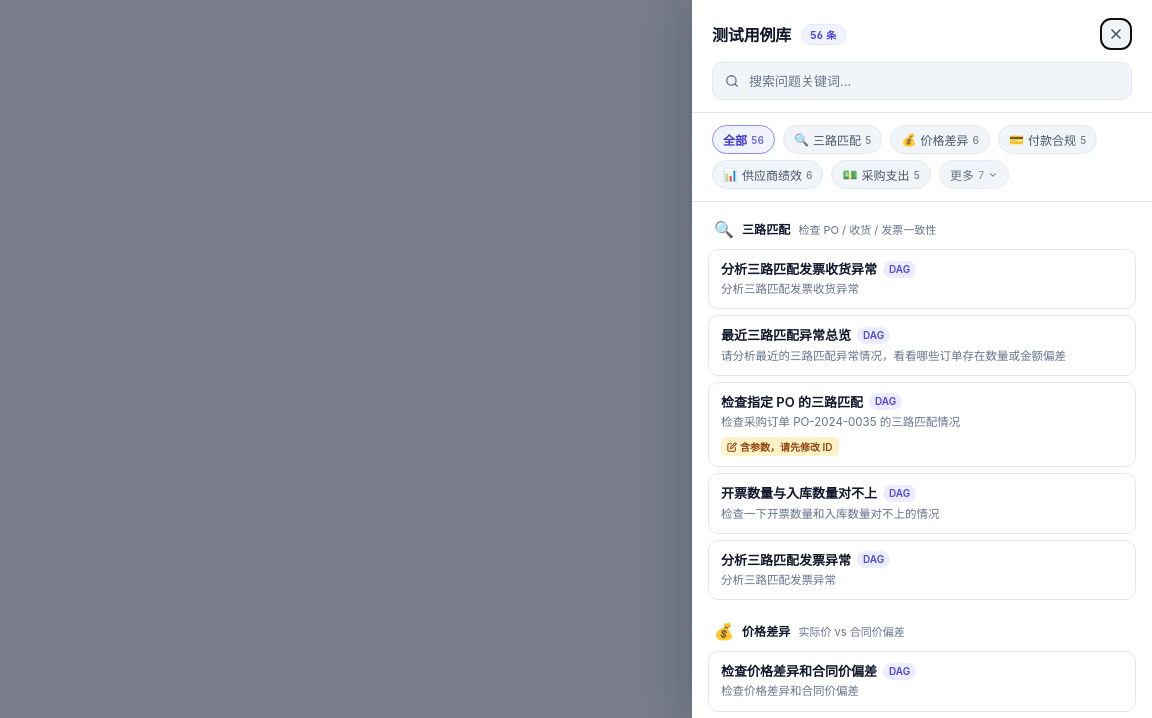
Test case: ExamplePromptsDrawer › filters prompts by category
Click the chip (first match), not the group header
Click the button "🔍 三路匹配 5": (833, 140) [783,125,882,154]
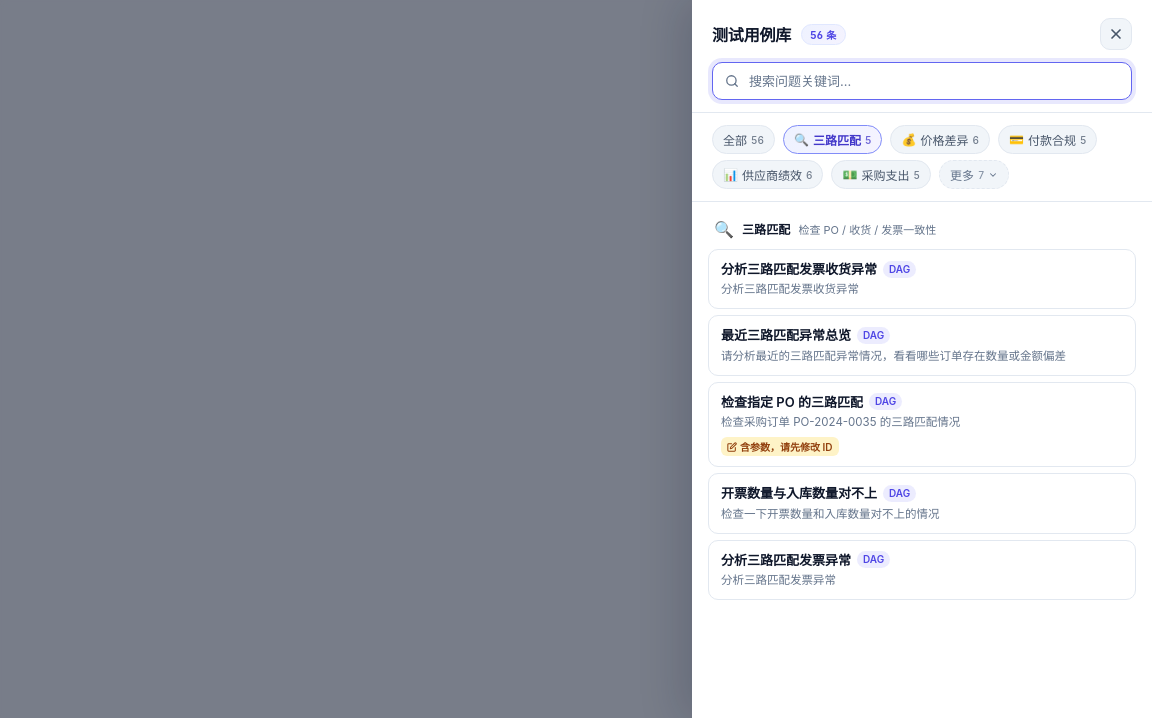
expect the number of buttons with class "examples-item" is 5: met, box [708,249,1136,309]; [708,315,1136,376]; [708,382,1136,467]; [708,473,1136,534]; [708,540,1136,600]
